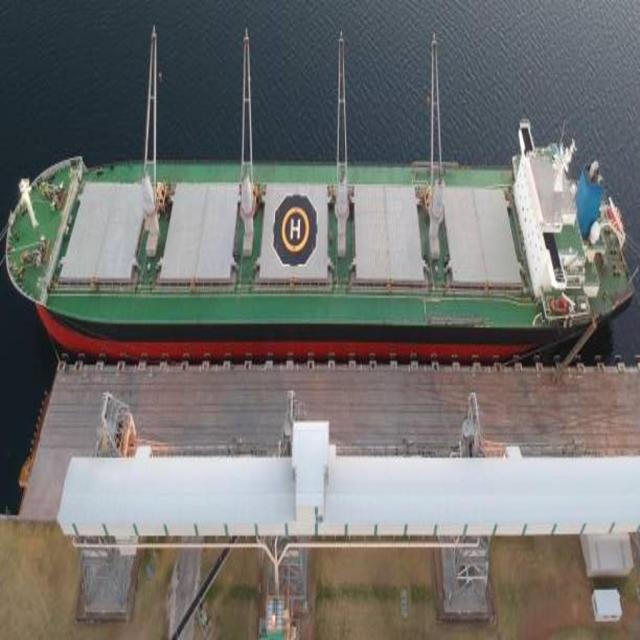helipad: (280, 206, 308, 251)
